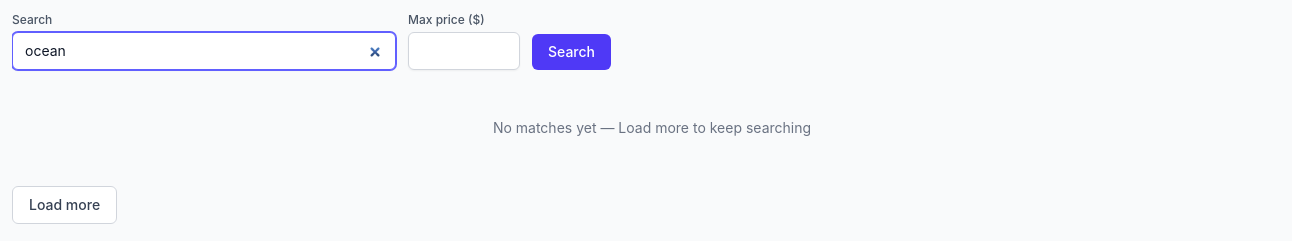
Test case: ContentSearch › an empty page with more to search says "No matches yet" and waits for Load more
Expected: the text "No matches yet — Load more to keep searching" is shown, [493, 119, 811, 136]
Click the button "Load more": [65, 205] box [12, 186, 117, 224]
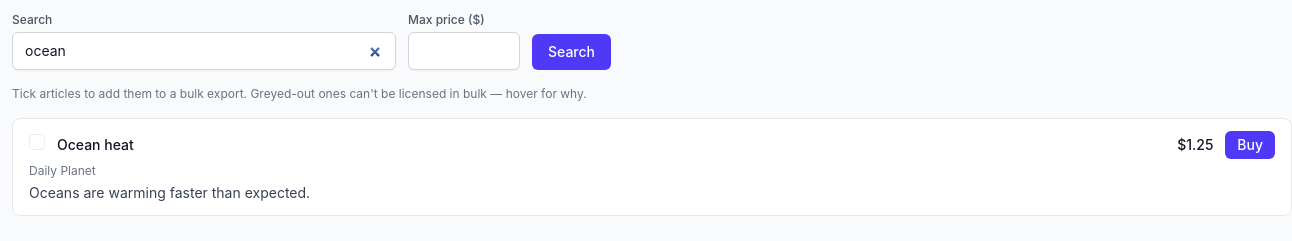
Expected: the text "Ocean heat" is shown, [57, 135, 134, 155]
Expected: the text "No matches yet" is gone
